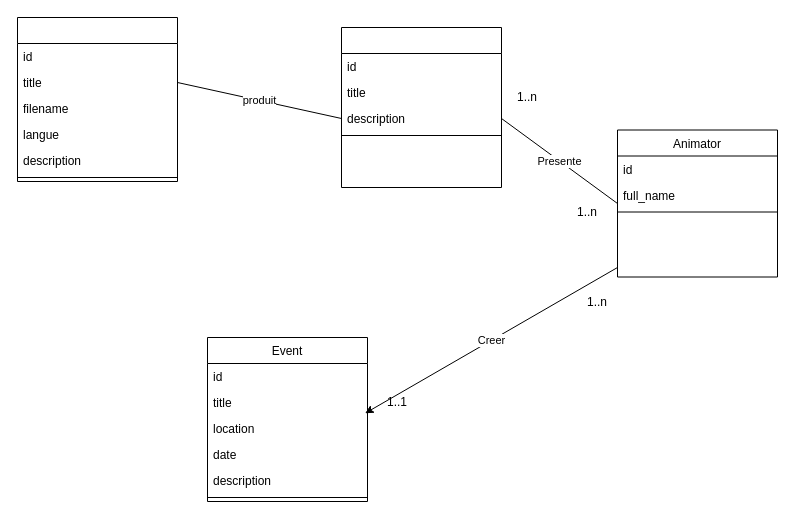
Some shapes in this 795 by 519 pixel diagram are drawn without their labels. Here are the shapes that lost their labels. From the top down, the box of each, then its label:
(16, 16, 178, 182): Podcast
(340, 26, 502, 188): Program
